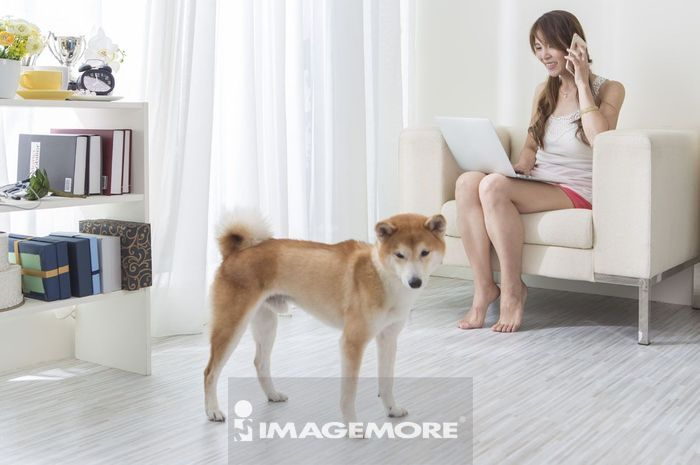phone: (568, 35, 588, 79)
talk: (535, 33, 591, 82)
